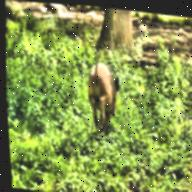boar: (55, 37, 132, 133)
